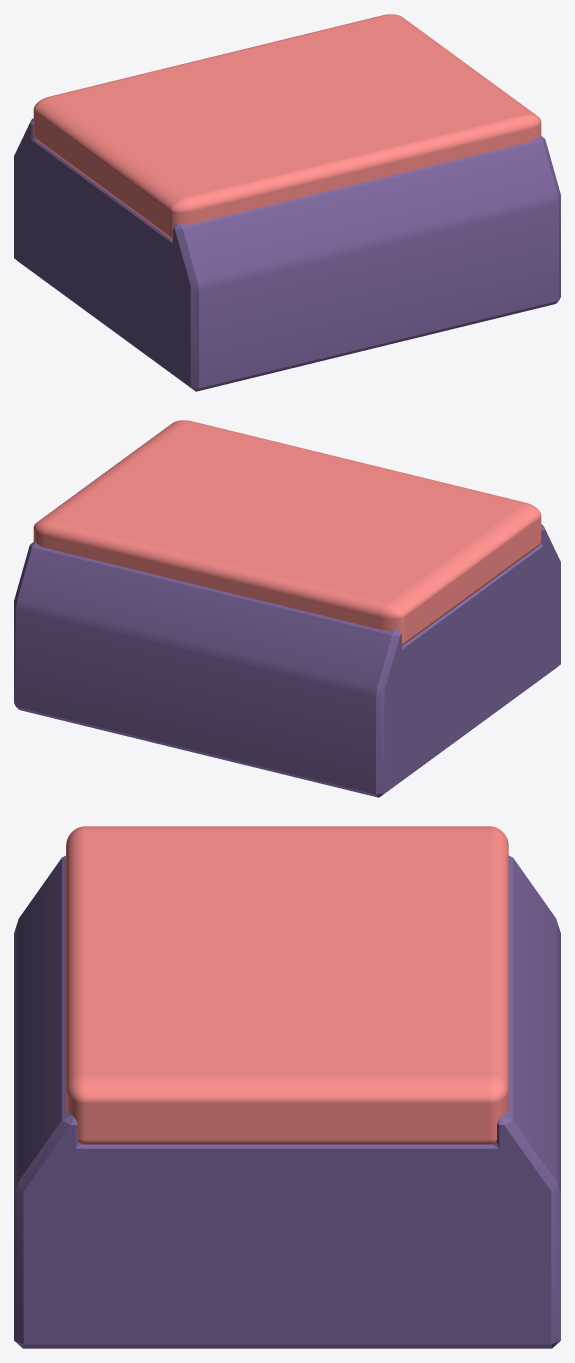
3 renders of one model, top to bottom at view 1: azimuth 30°, elevation 25°; view 2: azimuth 150°, elevation 25°; view 3: azimuth 270°, elevation 25°, orthographic. The views are drawn at different scales.
Parts seen in each view (by area): view 1: Cube.002, Plane.006; view 2: Cube.002, Plane.006; view 3: Plane.006, Cube.002.
Part boxes in pixels (bbox=[...]): Cube.002: bbox=[14, 118, 560, 391]; Plane.006: bbox=[33, 14, 541, 239]; Cube.002: bbox=[14, 524, 560, 797]; Plane.006: bbox=[33, 420, 541, 645]; Plane.006: bbox=[66, 826, 508, 1144]; Cube.002: bbox=[14, 855, 560, 1348].
Size of the model in its own units: 155 by 70.78 by 133.
